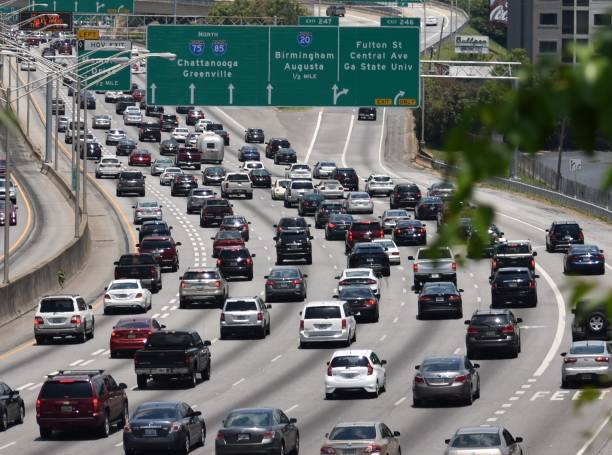car: (35, 372, 124, 436), (135, 331, 211, 390), (129, 403, 209, 455), (216, 409, 293, 455), (414, 357, 478, 401), (35, 295, 93, 342), (466, 312, 521, 357), (324, 423, 398, 455), (327, 353, 385, 393), (299, 304, 355, 345), (445, 425, 521, 455), (563, 342, 612, 386), (220, 300, 267, 343), (491, 268, 537, 307), (572, 299, 612, 341), (115, 255, 158, 294), (415, 281, 460, 317), (111, 317, 154, 354), (180, 271, 224, 307), (103, 281, 151, 313), (492, 243, 538, 275), (266, 268, 306, 304), (563, 244, 604, 278), (347, 245, 388, 277), (414, 248, 455, 280), (338, 288, 380, 318), (546, 220, 585, 250), (143, 238, 179, 269), (219, 247, 254, 278), (278, 234, 310, 264), (223, 216, 252, 247), (285, 180, 313, 211), (372, 238, 400, 268), (349, 218, 380, 245), (117, 171, 146, 199), (201, 199, 232, 225), (394, 220, 424, 246), (216, 230, 241, 258), (223, 174, 252, 198), (133, 201, 163, 222), (277, 215, 306, 236), (171, 173, 198, 195), (366, 175, 393, 197), (331, 168, 358, 190), (326, 214, 352, 236), (95, 157, 121, 179), (348, 191, 373, 213), (299, 191, 322, 214), (139, 122, 162, 143), (176, 148, 200, 168), (288, 163, 314, 179), (249, 168, 269, 188), (313, 160, 335, 178), (274, 148, 296, 165), (203, 167, 223, 185), (130, 148, 151, 165), (160, 167, 181, 184), (273, 177, 289, 198), (240, 143, 258, 161), (117, 139, 136, 155), (153, 158, 173, 173), (326, 3, 346, 18), (104, 129, 126, 142), (358, 107, 378, 121), (159, 140, 177, 155), (93, 115, 113, 128), (245, 128, 264, 141), (186, 110, 203, 124), (124, 111, 141, 124), (172, 129, 188, 141), (425, 15, 437, 27)
